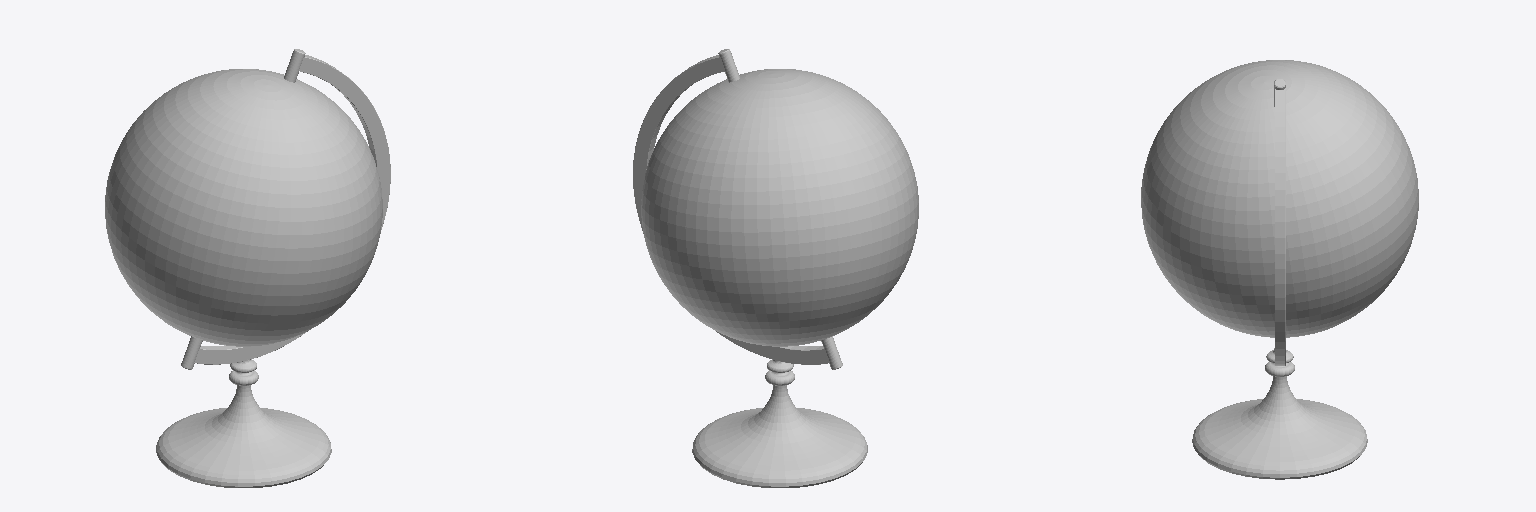
The model's file is globe.obj.
The picture shows the model from 3 angles: view 1: azimuth 30°, elevation 25°; view 2: azimuth 150°, elevation 25°; view 3: azimuth 270°, elevation 25°; orthographic projection.
Parts seen in each view (by area): view 1: Globe_2, Globe, Globe_3, Globe_1; view 2: Globe_2, Globe, Globe_3, Globe_1; view 3: Globe_2, Globe, Globe_3.
Boxes of the visible parts, x1,y1,x2,y2 form: Globe_2: [105, 69, 382, 346]; Globe: [156, 359, 331, 487]; Globe_3: [194, 55, 390, 364]; Globe_1: [181, 49, 305, 369]; Globe_2: [641, 69, 918, 346]; Globe: [692, 360, 867, 487]; Globe_3: [633, 55, 829, 364]; Globe_1: [718, 49, 842, 369]; Globe_2: [1141, 60, 1418, 337]; Globe: [1192, 348, 1367, 479]; Globe_3: [1275, 88, 1285, 365].
Bounding box in the file's own units: 2.2 × 3.12 × 2.